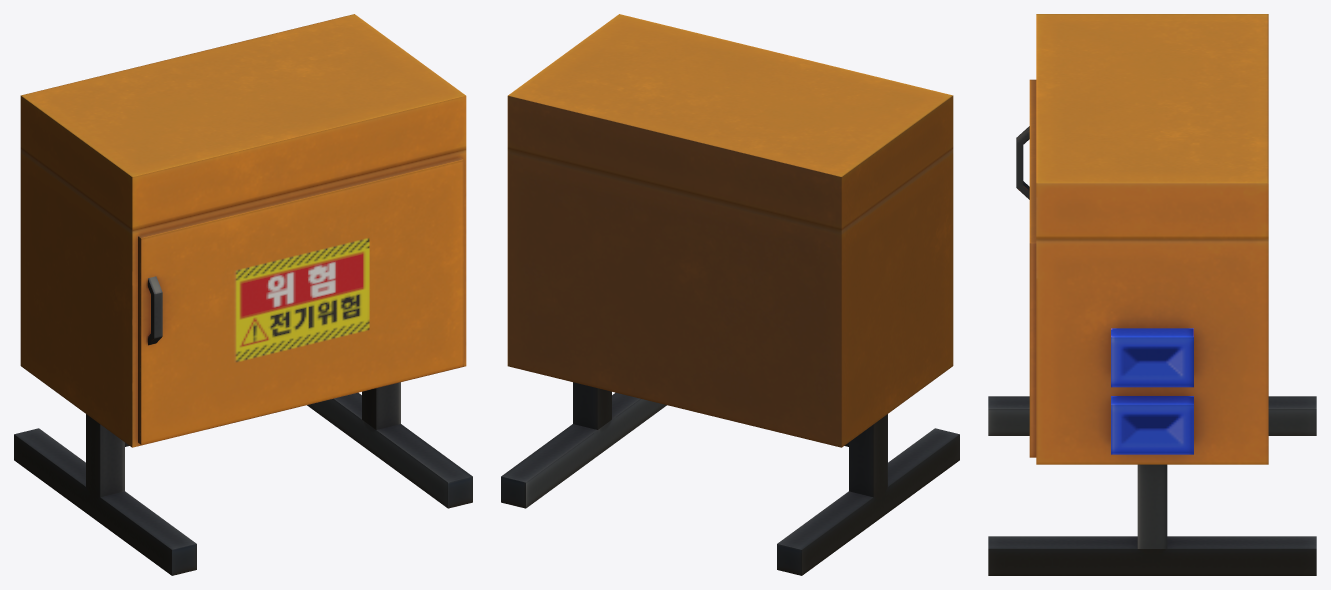
Rendered from eq_FRPpanel.fbx.
3 renders of one model, left to right at view 1: azimuth 30°, elevation 25°; view 2: azimuth 150°, elevation 25°; view 3: azimuth 270°, elevation 25°, orthographic. The views are drawn at different scales.
Parts seen in each view (by area): view 1: FRPpanel; view 2: FRPpanel; view 3: FRPpanel.
Boxes of the visible parts, left/top/right/bottom form: FRPpanel: left=14, top=14, right=472, bottom=575; FRPpanel: left=501, top=14, right=959, bottom=575; FRPpanel: left=988, top=14, right=1316, bottom=575.
Bounding box in the file's own units: 0.789 × 0.8285 × 0.615.
